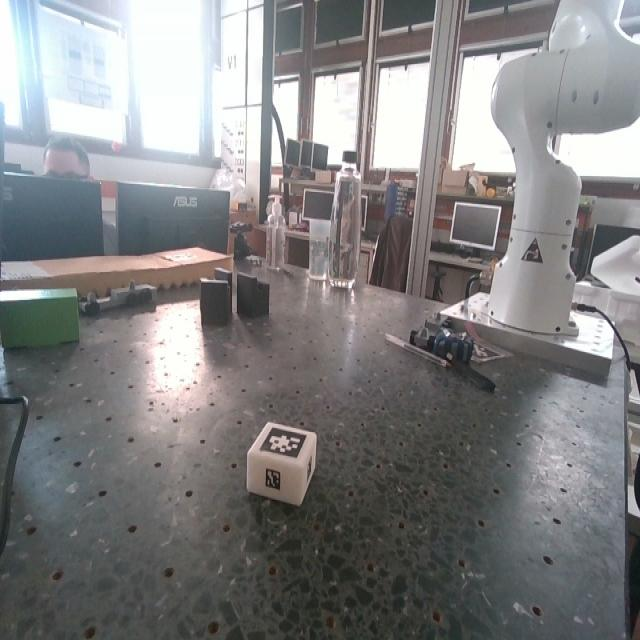Cube: (246, 420, 320, 507)
